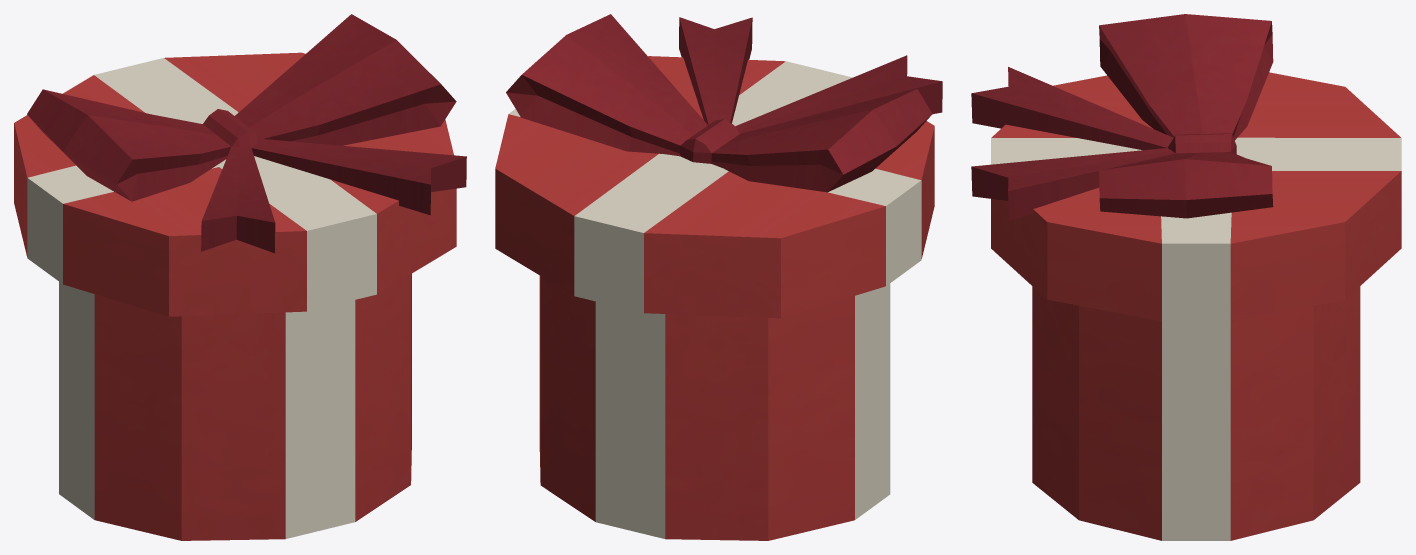
File: gift_box_A_Round.obj
3 renders of one model, left to right at view 1: azimuth 30°, elevation 25°; view 2: azimuth 150°, elevation 25°; view 3: azimuth 270°, elevation 25°, orthographic. The views are drawn at different scales.
Parts seen in each view (by area): view 1: gift_box_A_Round; view 2: gift_box_A_Round; view 3: gift_box_A_Round.
Boxes of the visible parts, x1=… form: gift_box_A_Round: x1=14, y1=14, x2=466, y2=540; gift_box_A_Round: x1=495, y1=14, x2=942, y2=540; gift_box_A_Round: x1=971, y1=14, x2=1401, y2=540.
Size of the model in its own units: 0.4597 by 0.4562 by 0.4677.
